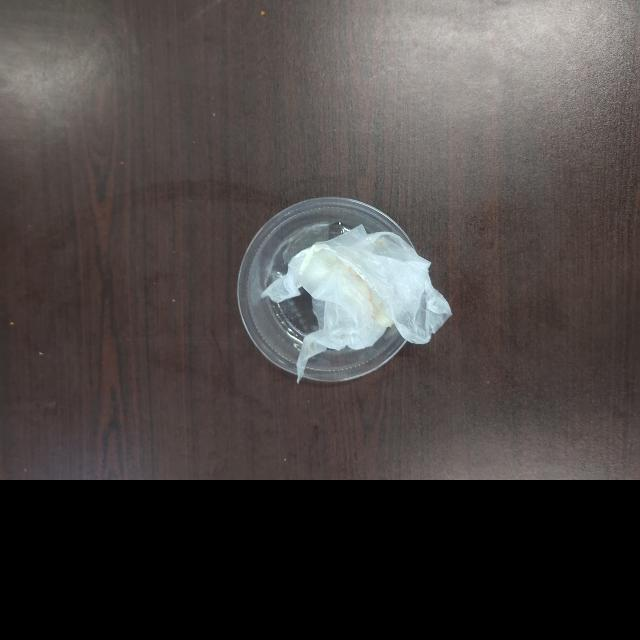kitchen paper: (272, 232, 460, 362)
